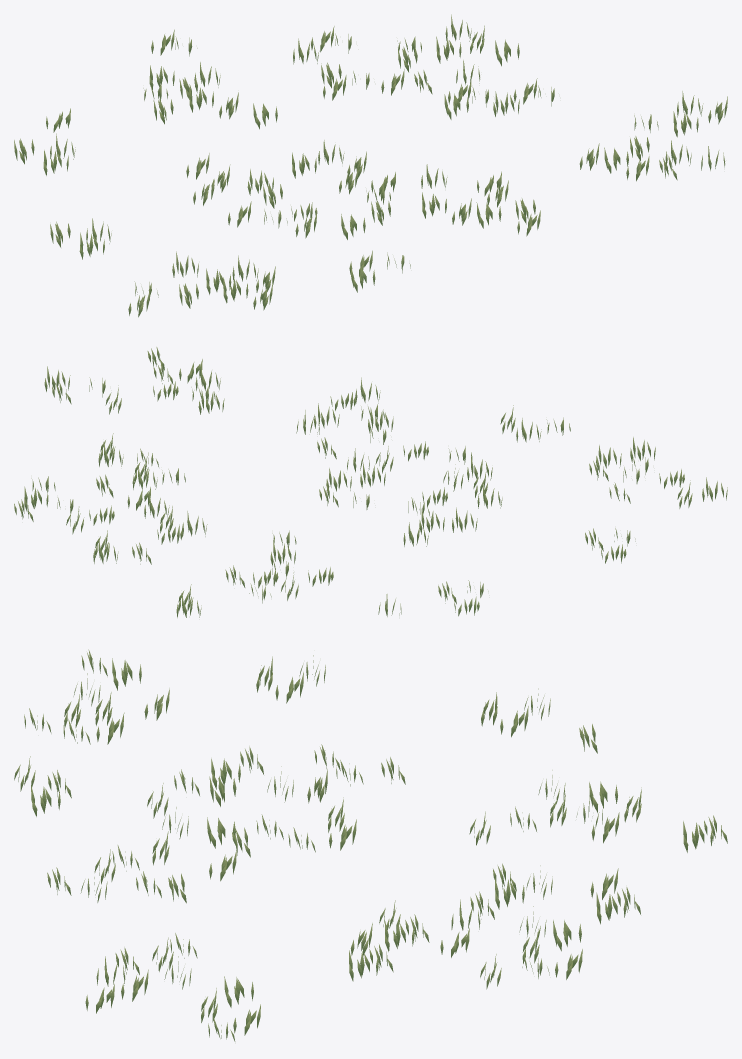
Rendered from plants_un_main_grass_set11_04.gltf.
3 views of the same model, one above another, from view 1: azimuth 30°, elevation 25°; view 2: azimuth 150°, elevation 25°; view 3: azimuth 270°, elevation 25° (orthographic). The views are drawn at different scales.
Visible parts, largest first — view 1: plants_un_main_grass_set01_04_mesh_shape:plants_un_main_gras; view 2: plants_un_main_grass_set01_04_mesh_shape:plants_un_main_gras; view 3: plants_un_main_grass_set01_04_mesh_shape:plants_un_main_gras.
Boxes of the visible parts, left/top/right/bottom form: plants_un_main_grass_set01_04_mesh_shape:plants_un_main_gras: left=14, top=14, right=727, bottom=317; plants_un_main_grass_set01_04_mesh_shape:plants_un_main_gras: left=14, top=347, right=727, bottom=617; plants_un_main_grass_set01_04_mesh_shape:plants_un_main_gras: left=14, top=649, right=727, bottom=1041.
Size of what is drawn, in the model's own units: 13.53 by 0.4615 by 10.77.
Materials: 1 (1 with a texture image).
